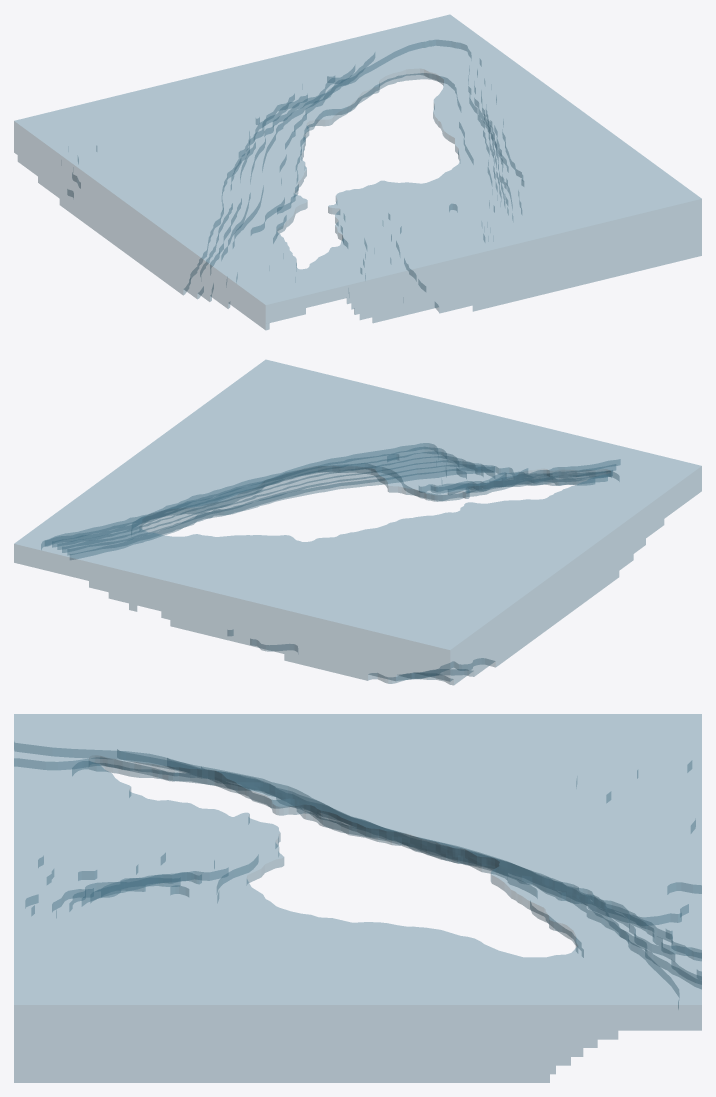
File: water-draco.0ed8e0b1.glb
3 renders of one model, top to bottom at view 1: azimuth 30°, elevation 25°; view 2: azimuth 150°, elevation 25°; view 3: azimuth 270°, elevation 25°, orthographic. The views are drawn at different scales.
Visible parts, largest first — view 1: water; view 2: water; view 3: water.
Part boxes in pixels (box(x1,y1,x2,y2)): water: box(14, 14, 701, 329); water: box(14, 360, 701, 685); water: box(14, 714, 701, 1082).
Size of the model in its own units: 102 by 12.71 by 102.
1 material, 1 textured.
